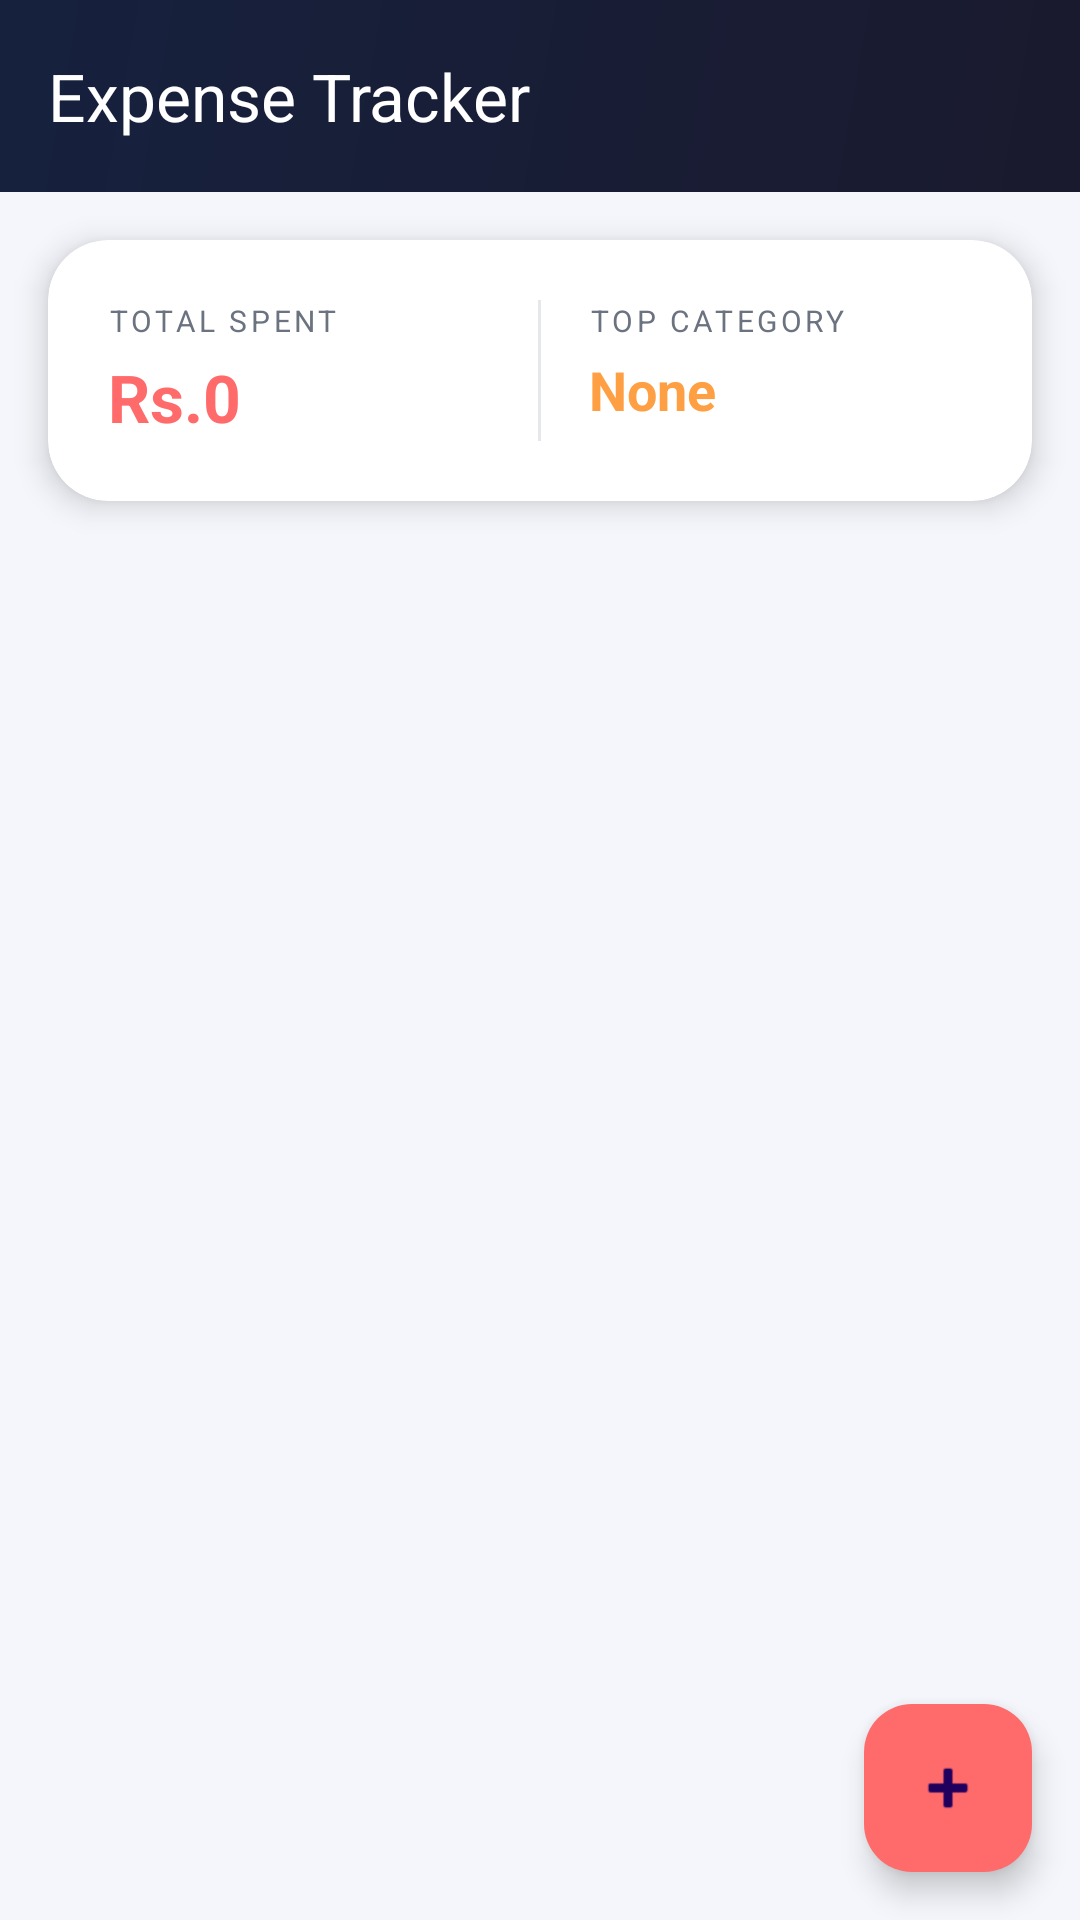

Named icons in this screenshot (1080w x 1920h) and their bounding boxes, (x1, y1, x2, y2):
Add Expense: (864, 1704, 1032, 1872)
